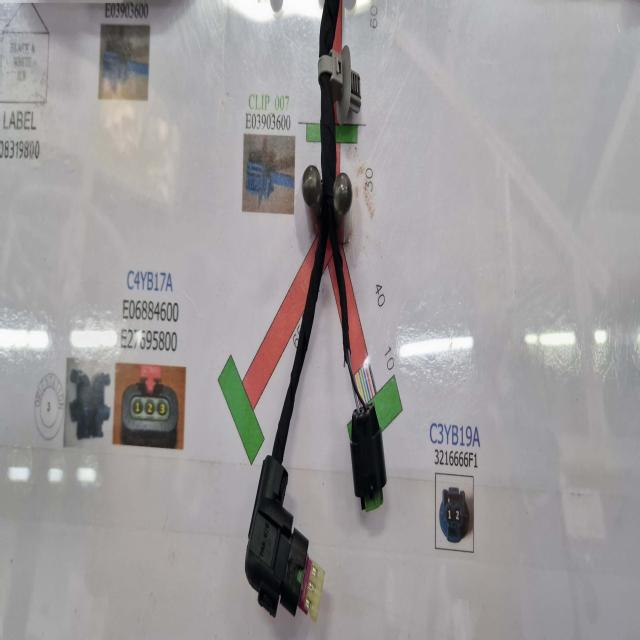Clip: (318, 46, 361, 123)
Connector: (245, 457, 324, 621), (350, 405, 386, 511)
Gape: (342, 338, 369, 414)
MHEV_N11_Cable: (272, 74, 350, 462), (320, 0, 339, 57)
